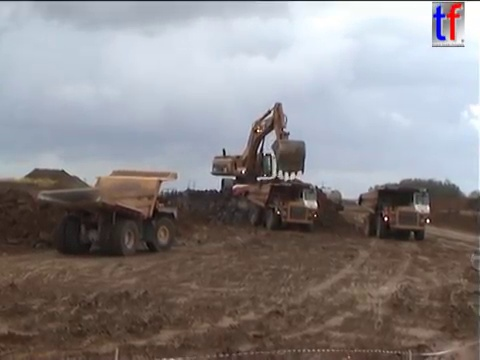excavator: (209, 100, 310, 199), (221, 179, 302, 208)
truck: (35, 169, 179, 257), (241, 178, 320, 230), (356, 186, 431, 240), (309, 184, 345, 214)
